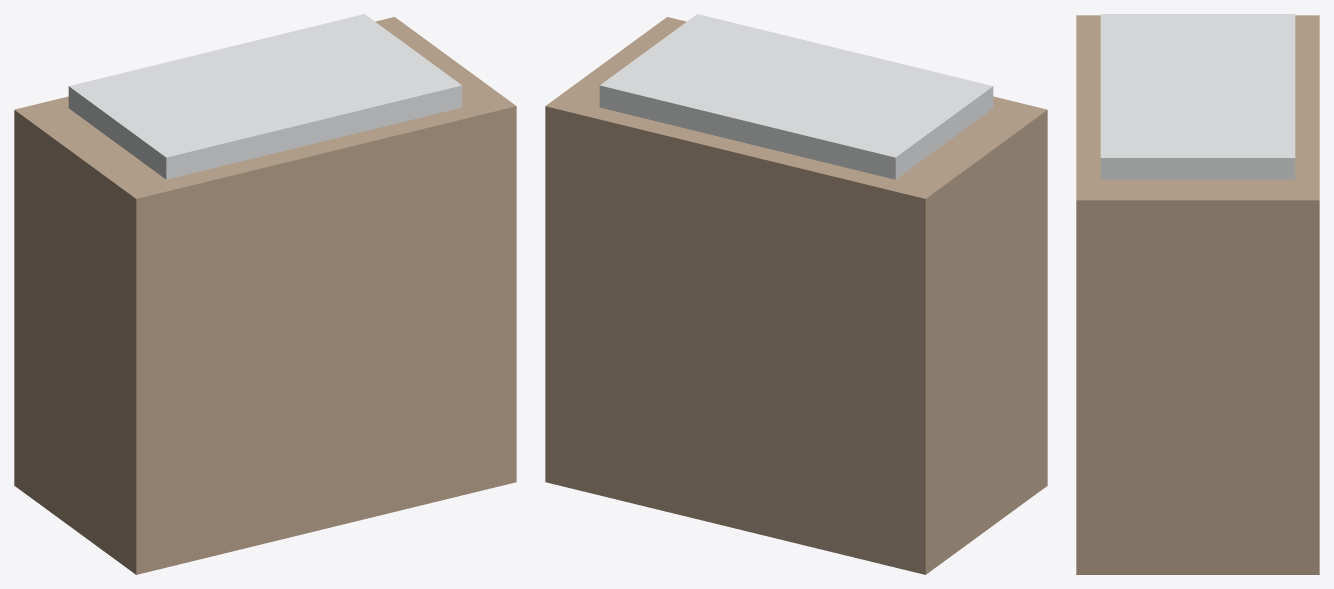
Rendered from bath_vanity_090.glb.
3 views of the same model, side by side, from view 1: azimuth 30°, elevation 25°; view 2: azimuth 150°, elevation 25°; view 3: azimuth 270°, elevation 25° (orthographic).
Parts seen in each view (by area): view 1: bath_vanity_090; view 2: bath_vanity_090; view 3: bath_vanity_090.
Part boxes in pixels (x1=…): bath_vanity_090: x1=14, y1=14, x2=516, y2=574; bath_vanity_090: x1=545, y1=14, x2=1047, y2=574; bath_vanity_090: x1=1076, y1=14, x2=1319, y2=574.
Size of what is drawn, in the model's own units: 0.9 by 0.9 by 0.5.
